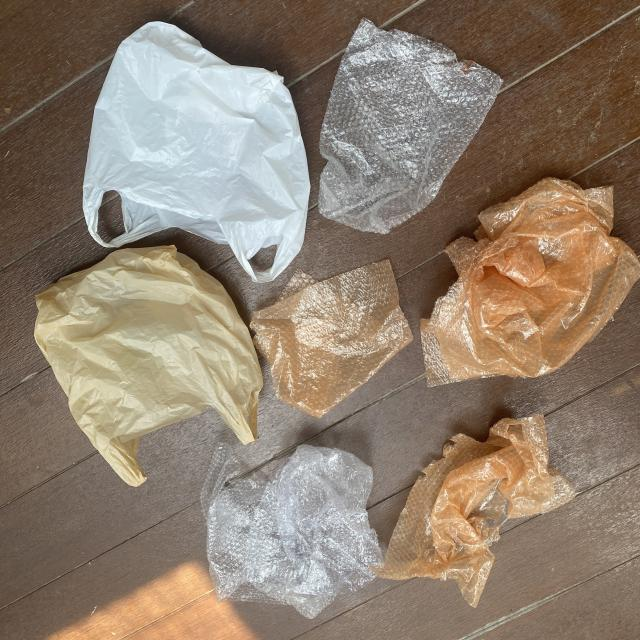Single-layer Plastic: (82, 21, 310, 282), (35, 246, 262, 486), (421, 178, 640, 386), (319, 19, 502, 234), (371, 415, 574, 606), (201, 444, 382, 618), (250, 260, 412, 418)
